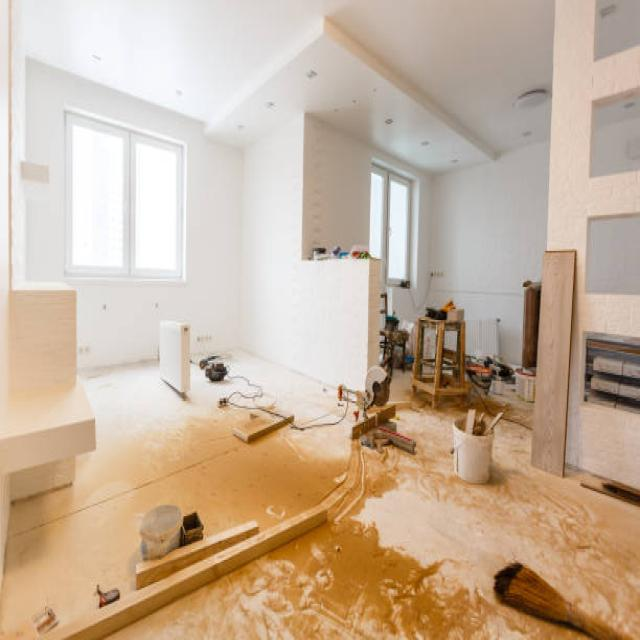Interior Finishing and Carpentry: (31, 26, 555, 610)
